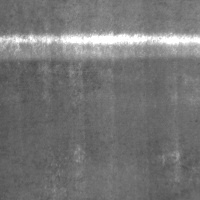scratches: (0, 32, 199, 59)
